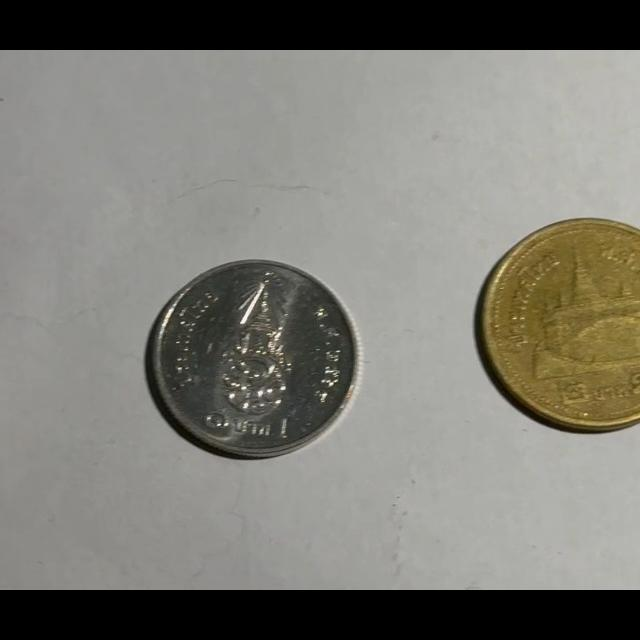1-baht: (147, 260, 361, 458)
2-baht: (476, 219, 640, 431)
